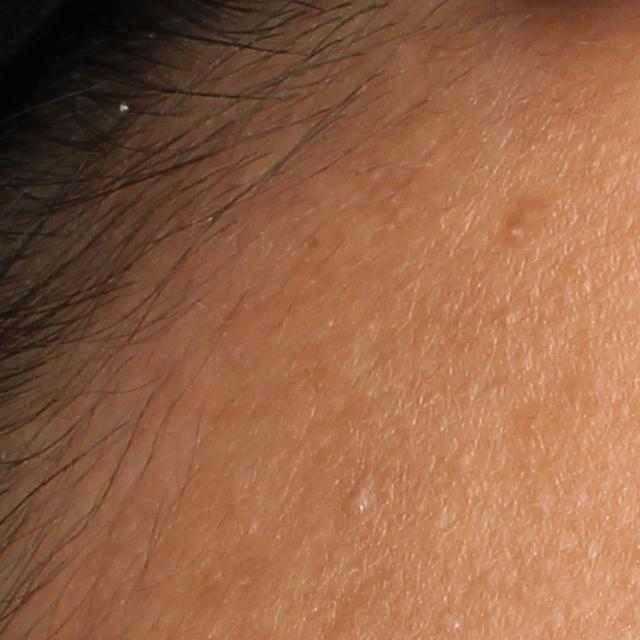comedo: (345, 487, 376, 522), (452, 450, 479, 471), (500, 309, 519, 328)
papule: (506, 221, 526, 241)
